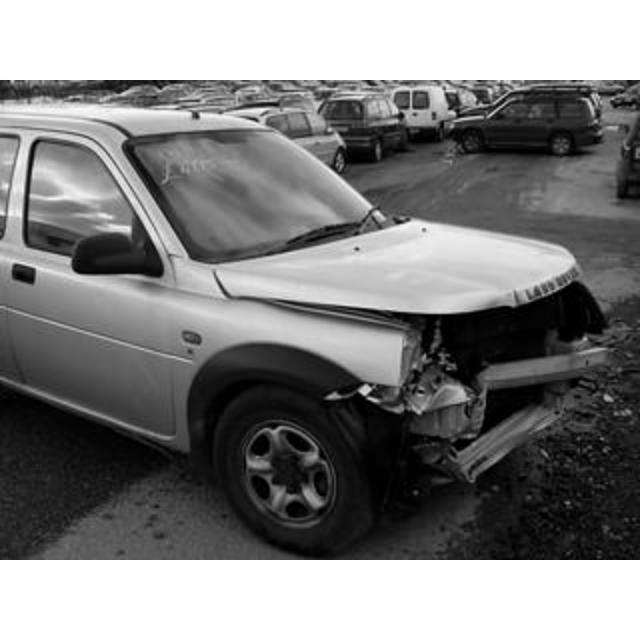bonnet-dent: (202, 218, 584, 318)
front-bumper-dent: (390, 312, 596, 442)
